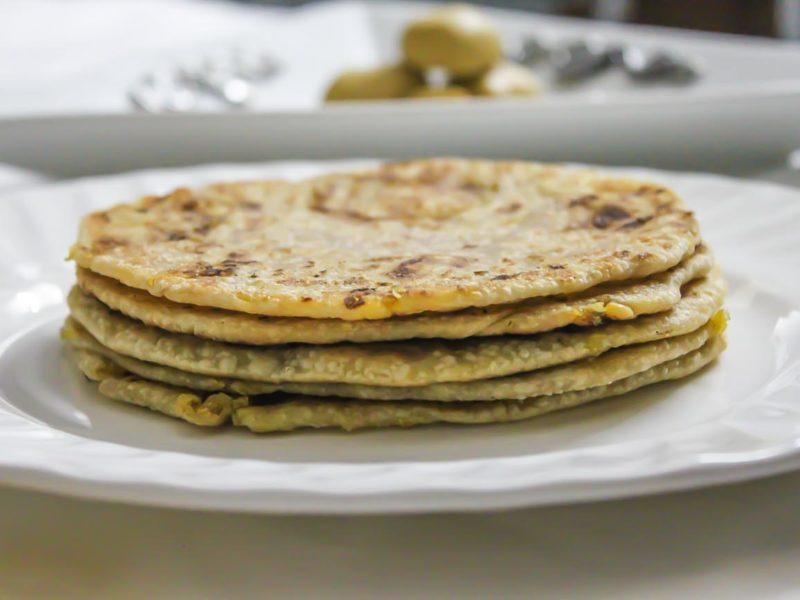aloo_paratha: (61, 157, 729, 432)
